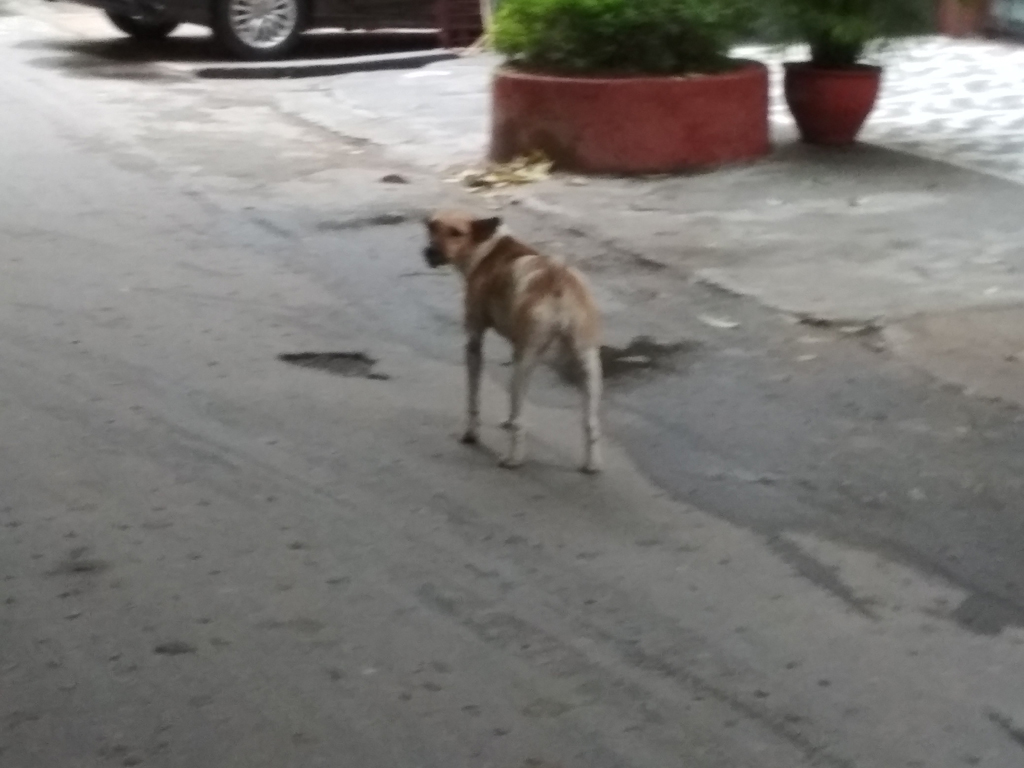dog: (423, 207, 603, 474)
